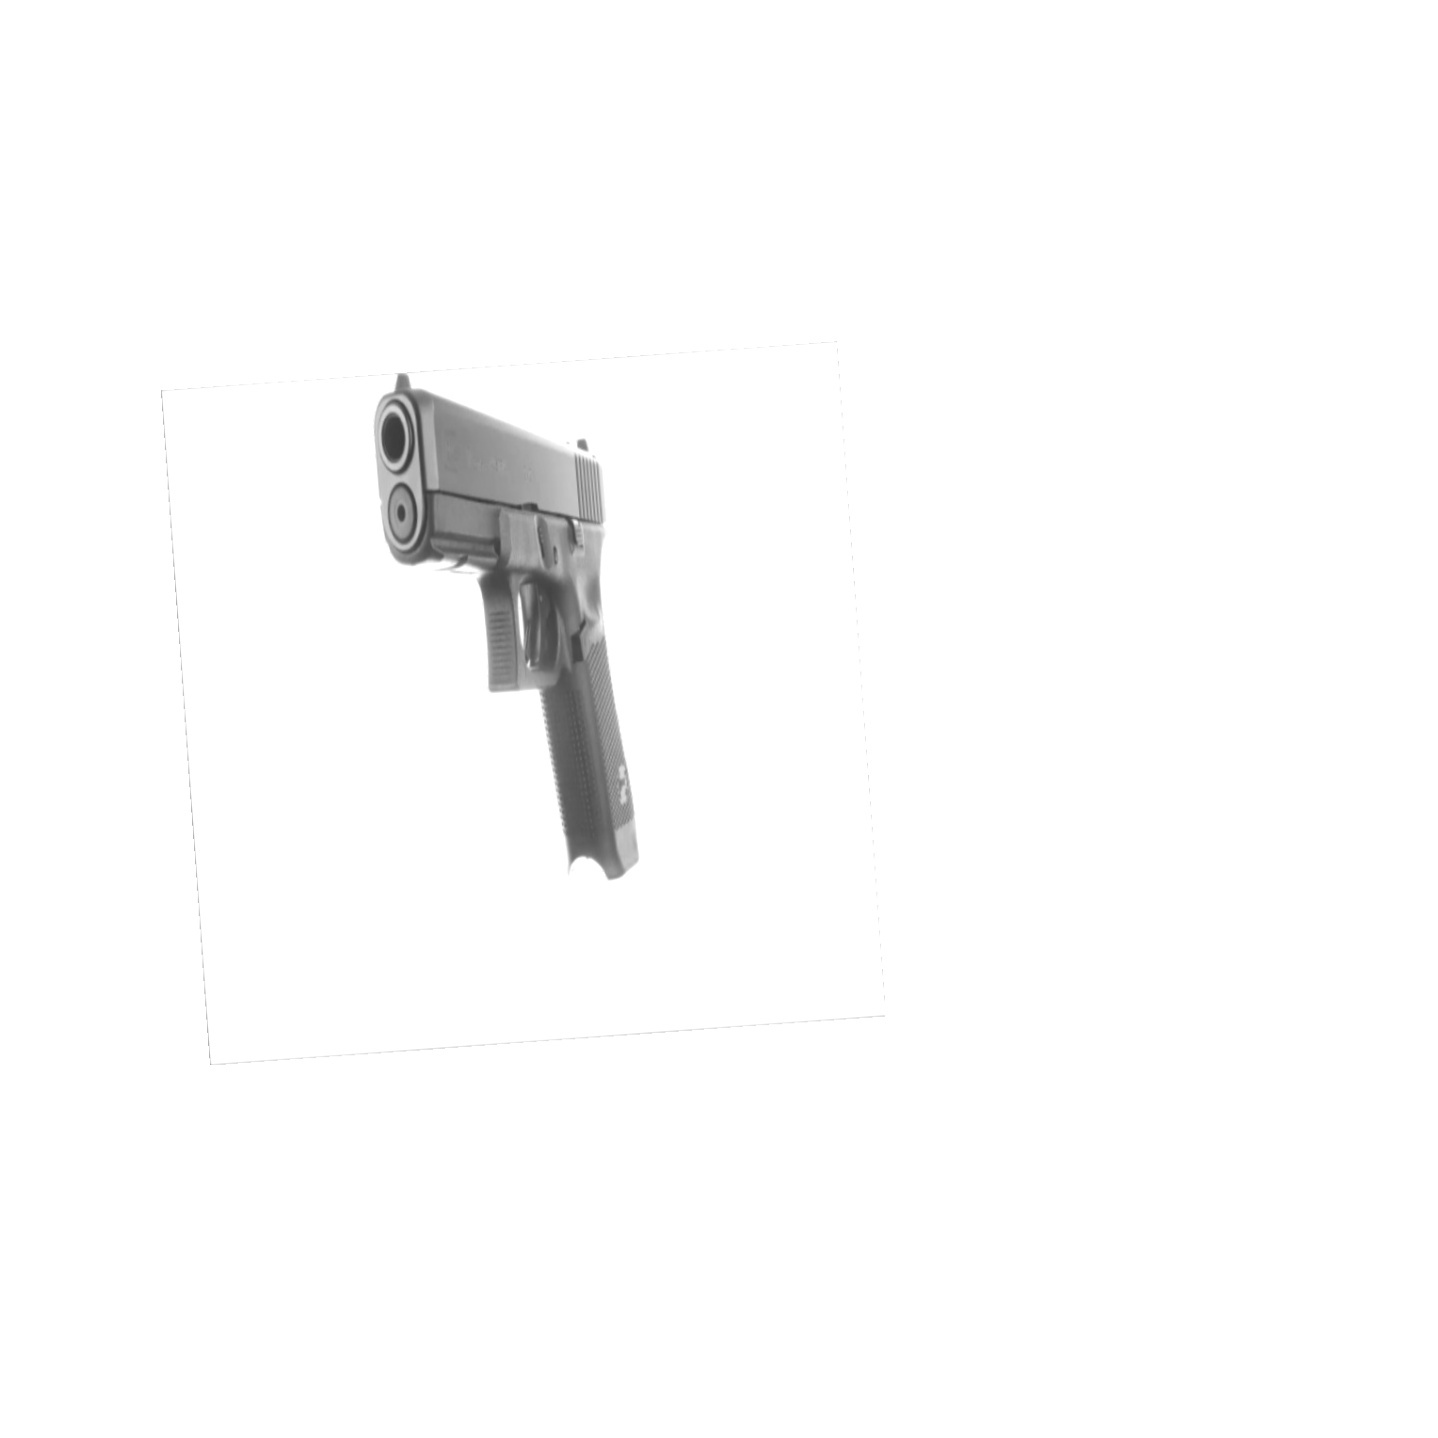gun: (361, 363, 670, 882)
